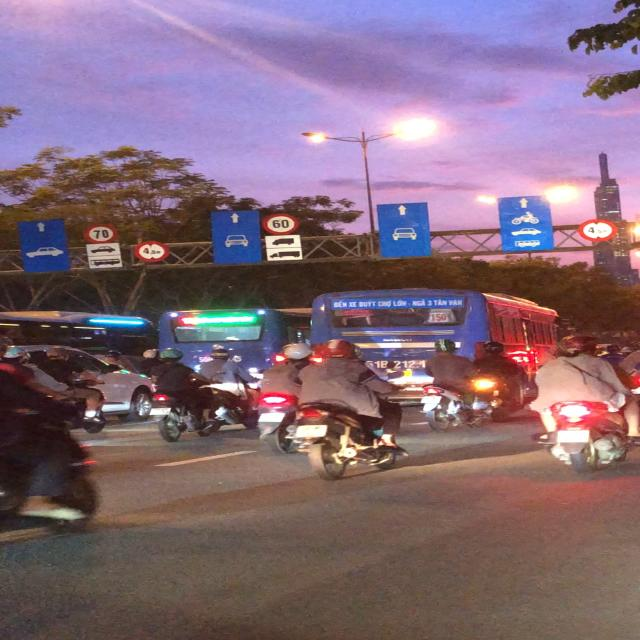Bien bao han che chieu cao: (573, 217, 619, 243), (131, 238, 170, 262)
Bien bao toc do toi da cho phep: (261, 212, 300, 236), (81, 222, 117, 245)
